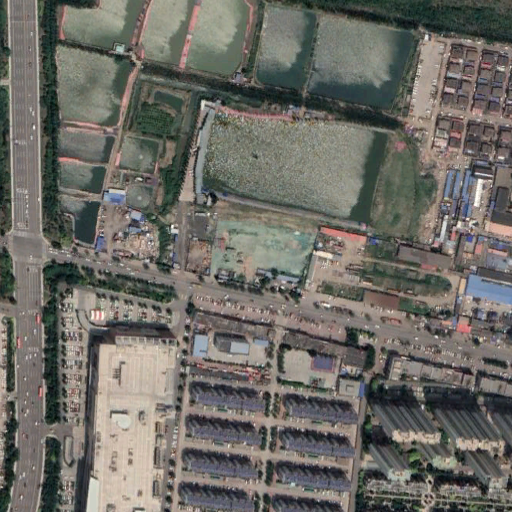cw: (214, 218, 310, 292)
